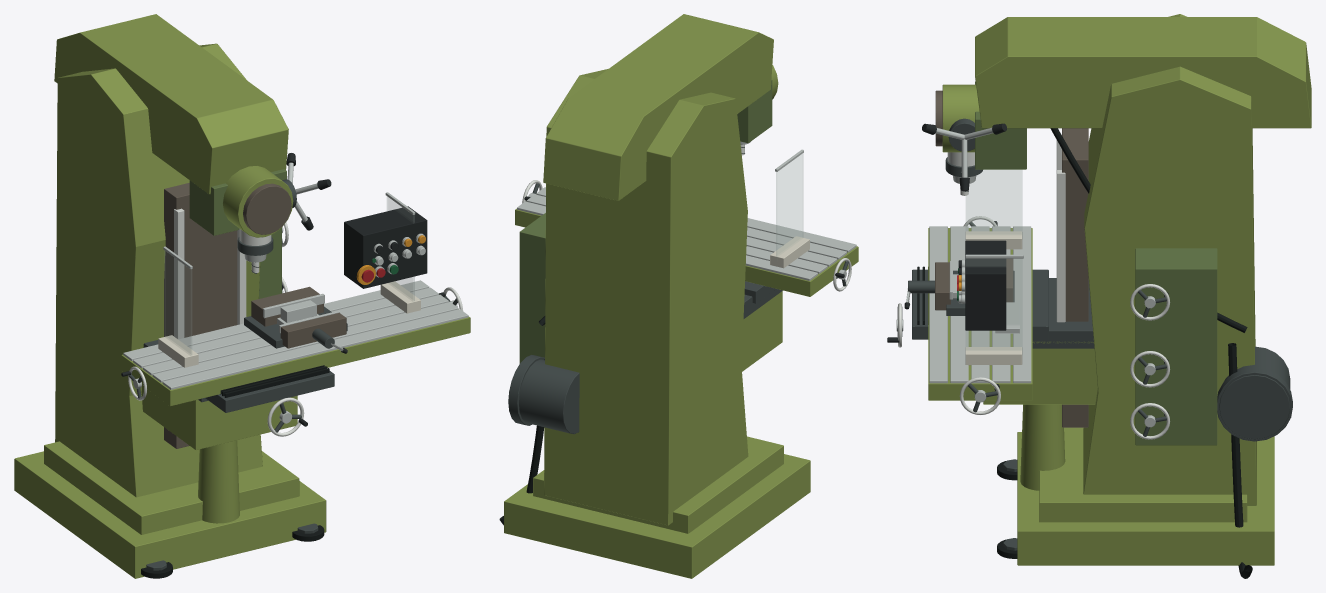
File: horizontal.glb
3 views of the same model, side by side, from view 1: azimuth 30°, elevation 25°; view 2: azimuth 150°, elevation 25°; view 3: azimuth 270°, elevation 25° (orthographic). The views are drawn at different scales.
Parts seen in each view (by area): view 1: H_MILL_01_Body, H_MILL_01_Table_Mesh, H_MILL_01_Saddle_Mesh, H_MILL_01_Vise, H_MILL_01_ViseJaw_Mesh, H_MILL_01_QuillLever_Mesh, H_MILL_01_YWheel_Mesh, H_MILL_01_Quill_Mesh; view 2: H_MILL_01_Body, H_MILL_01_Table_Mesh; view 3: H_MILL_01_Body, H_MILL_01_Table_Mesh, H_MILL_01_Saddle_Mesh, H_MILL_01_QuillLever_Mesh, H_MILL_01_ViseJaw_Mesh, H_MILL_01_Vise, H_MILL_01_XWheel_Mesh, H_MILL_01_Quill_Mesh.
Part boxes in pixels (left/top/right/bottom): H_MILL_01_Body: left=14, top=14, right=427, bottom=578; H_MILL_01_Table_Mesh: left=121, top=192, right=470, bottom=406; H_MILL_01_Saddle_Mesh: left=205, top=365, right=334, bottom=412; H_MILL_01_Vise: left=244, top=286, right=347, bottom=348; H_MILL_01_ViseJaw_Mesh: left=279, top=311, right=347, bottom=353; H_MILL_01_QuillLever_Mesh: left=282, top=153, right=331, bottom=230; H_MILL_01_YWheel_Mesh: left=267, top=397, right=307, bottom=436; H_MILL_01_Quill_Mesh: left=237, top=229, right=273, bottom=255; H_MILL_01_Body: left=499, top=14, right=810, bottom=578; H_MILL_01_Table_Mesh: left=515, top=149, right=858, bottom=296; H_MILL_01_Body: left=935, top=14, right=1311, bottom=578; H_MILL_01_Table_Mesh: left=928, top=170, right=1032, bottom=400; H_MILL_01_Saddle_Mesh: left=912, top=266, right=1048, bottom=339; H_MILL_01_QuillLever_Mesh: left=922, top=118, right=1006, bottom=190; H_MILL_01_ViseJaw_Mesh: left=904, top=261, right=952, bottom=310; H_MILL_01_Vise: left=946, top=258, right=1014, bottom=315; H_MILL_01_XWheel_Mesh: left=959, top=377, right=1000, bottom=414; H_MILL_01_Quill_Mesh: left=945, top=152, right=982, bottom=177.
Bounding box in the file's own units: 1.46 × 1.97 × 1.55.
